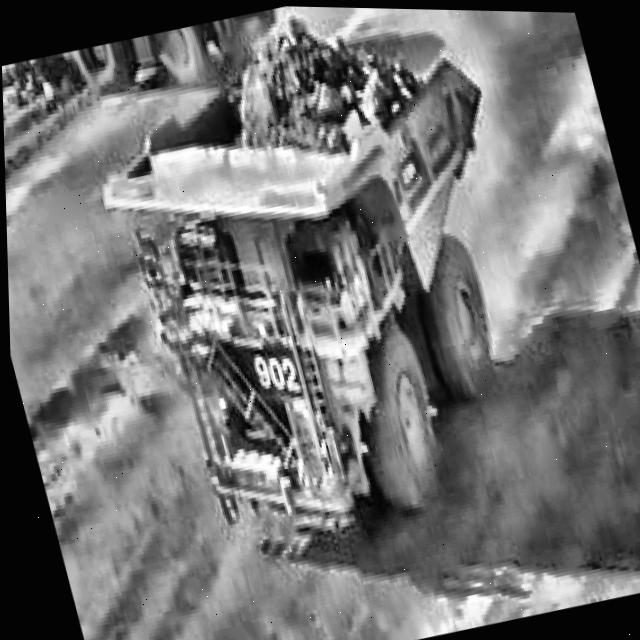dump_truck: (83, 1, 584, 575), (55, 6, 273, 99)
